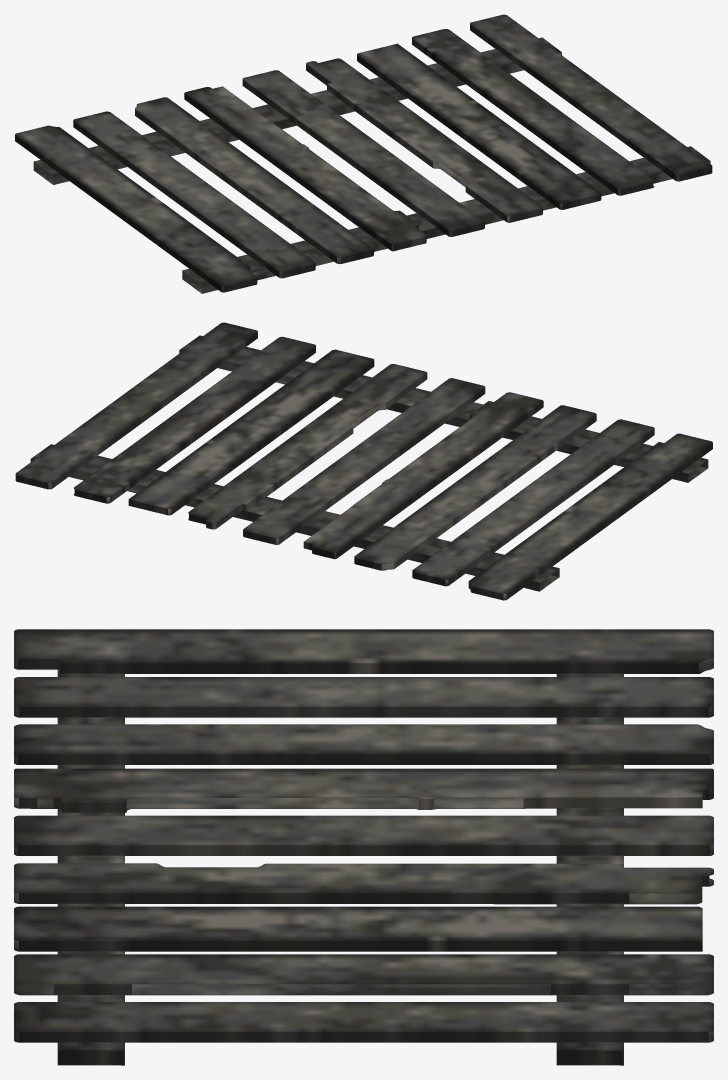
Rendered from SM_EC_Fence_04.fbx.
3 views of the same model, one above another, from view 1: azimuth 30°, elevation 25°; view 2: azimuth 150°, elevation 25°; view 3: azimuth 270°, elevation 25° (orthographic). The views are drawn at different scales.
Visible parts, largest first — view 1: SM_EC_Fence_04; view 2: SM_EC_Fence_04; view 3: SM_EC_Fence_04.
Part boxes in pixels (x1=…): SM_EC_Fence_04: x1=15, y1=14, x2=712, y2=293; SM_EC_Fence_04: x1=15, y1=322, x2=712, y2=600; SM_EC_Fence_04: x1=14, y1=629, x2=713, y2=1065.
Size of the model in its own units: 1.5 by 1.07 by 0.0425.
